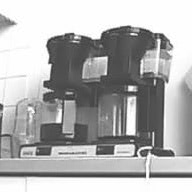empty coffee: (94, 81, 154, 144)
